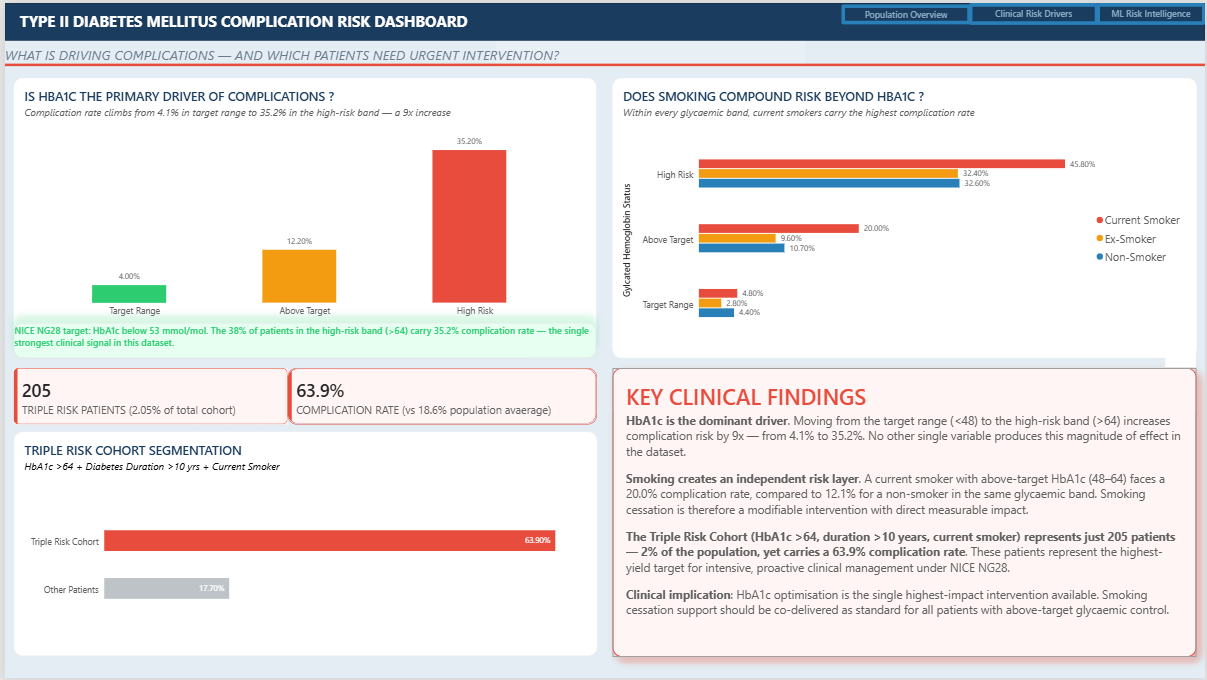

This screenshot's page, from the dashboard's own definition file:
{"tool":"powerbi","page":{"name":"Clinical Risk Drivers","canvas":[1920,1080],"ordinal":1},"visuals":[{"type":"shape","box":[785.7,0,494.3,101.4],"z":0},{"type":"shape","box":[0,0,1920,60],"z":1000},{"type":"textbox","box":[0,12,764,48],"z":2000},{"type":"textbox","box":[0,68,1222,52],"z":3000},{"type":"shape","box":[0,78,1920,42],"z":4000},{"type":"textbox","title":"  KEY CLINICAL FINDINGS","box":[972,584,934,462],"z":5000},{"type":"columnChart","title":"IS HBA1C THE PRIMARY DRIVER OF COMPLICATIONS ?","fields":{"Category":["HbA1c Bands.blood_sugar_level"],"Y":["_Measure.Complication Rate %"]},"box":[14,120,932,420],"z":6000},{"type":"textbox","box":[14,512,932,56],"z":7000},{"type":"clusteredBarChart","title":"DOES SMOKING COMPOUND RISK BEYOND HBA1C ?","fields":{"Category":["Smoking_HbA1c.blood_sugar_level"],"Series":["Smoking_HbA1c.Smoking_Status"],"Y":["_Measure.Complication Rate Smoking %"]},"box":[972,120,934,448],"z":8000},{"type":"cardVisual","fields":{"Data":["_Measure.Triple Risk Count"]},"box":[13.3,583.3,438.3,90],"z":9000},{"type":"cardVisual","fields":{"Data":["_Measure.Triple Risk Rate"]},"box":[451.7,583.3,495,90],"z":10000},{"type":"clusteredBarChart","title":"TRIPLE RISK COHORT SEGMENTATION","fields":{"Category":["Triple Risk.risk_segment"],"Y":["_Measure.Complication Rate Triple %"]},"box":[13.3,686.7,933.3,358.3],"z":11000},{"type":"actionButton","title":"Population Overview","box":[1337.5,1.7,207.5,32.5],"z":11001},{"type":"actionButton","box":[1541.2,0.4,207.5,35],"z":11002},{"type":"actionButton","box":[1745,0.4,175,35],"z":11003}]}

Visuals, with their boxes in screenshot pixels (x1, y1, x2, y2), scaled from the page's 1920x1080 canvas onto the 1207x680 screenshot:
shape: bbox=(494, 0, 805, 64)
shape: bbox=(0, 0, 1206, 38)
textbox: bbox=(0, 8, 480, 38)
textbox: bbox=(0, 43, 768, 76)
shape: bbox=(0, 49, 1206, 76)
"  KEY CLINICAL FINDINGS" textbox: bbox=(611, 368, 1198, 659)
"IS HBA1C THE PRIMARY DRIVER OF COMPLICATIONS ?" columnChart: bbox=(9, 76, 595, 340)
textbox: bbox=(9, 322, 595, 358)
"DOES SMOKING COMPOUND RISK BEYOND HBA1C ?" clusteredBarChart: bbox=(611, 76, 1198, 358)
cardVisual - _Measure.Triple Risk Count: bbox=(8, 367, 284, 424)
cardVisual - _Measure.Triple Risk Rate: bbox=(284, 367, 595, 424)
"TRIPLE RISK COHORT SEGMENTATION" clusteredBarChart: bbox=(8, 432, 595, 658)
"Population Overview" actionButton: bbox=(841, 1, 971, 22)
actionButton: bbox=(969, 0, 1099, 22)
actionButton: bbox=(1097, 0, 1206, 22)
